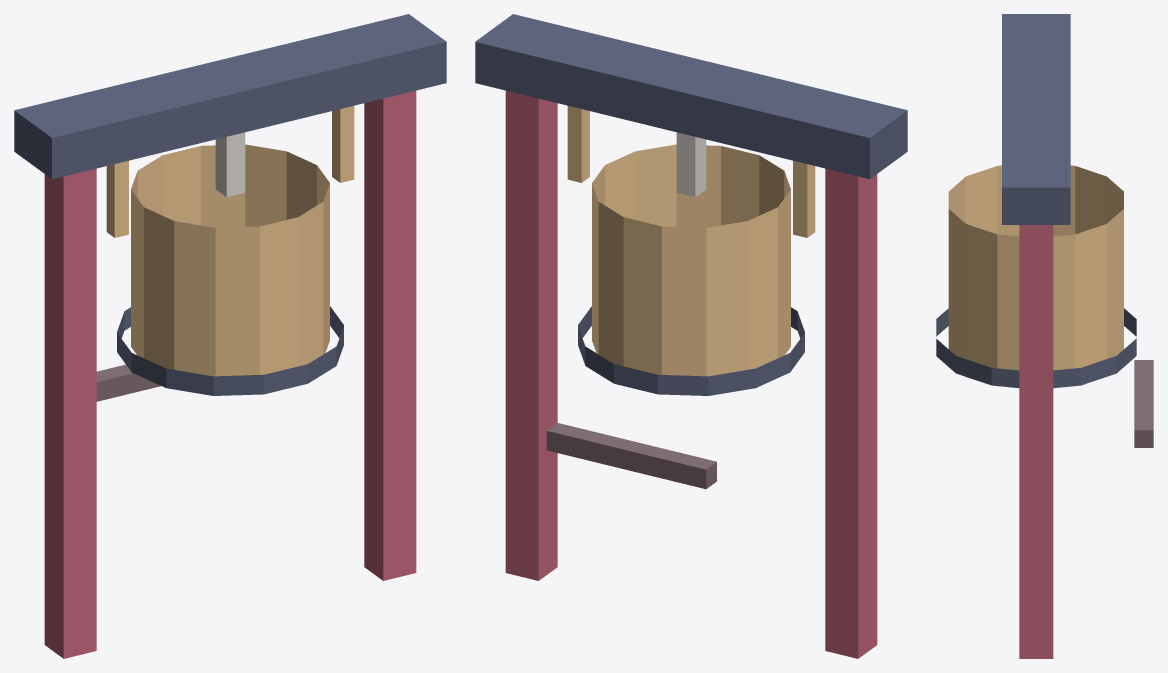
The model's file is v07_dojo_suspended_bell_lod0.glb.
3 renders of one model, left to right at view 1: azimuth 30°, elevation 25°; view 2: azimuth 150°, elevation 25°; view 3: azimuth 270°, elevation 25°, orthographic. The views are drawn at different scales.
Parts seen in each view (by area): view 1: dojo_suspended_bell; view 2: dojo_suspended_bell; view 3: dojo_suspended_bell.
Boxes of the visible parts, box(x1,y1,x2,y2) form: dojo_suspended_bell: box(14, 14, 446, 658); dojo_suspended_bell: box(475, 14, 907, 658); dojo_suspended_bell: box(936, 14, 1153, 658).
Bounding box in the file's own units: 4.2 × 5.42 × 2.22.
